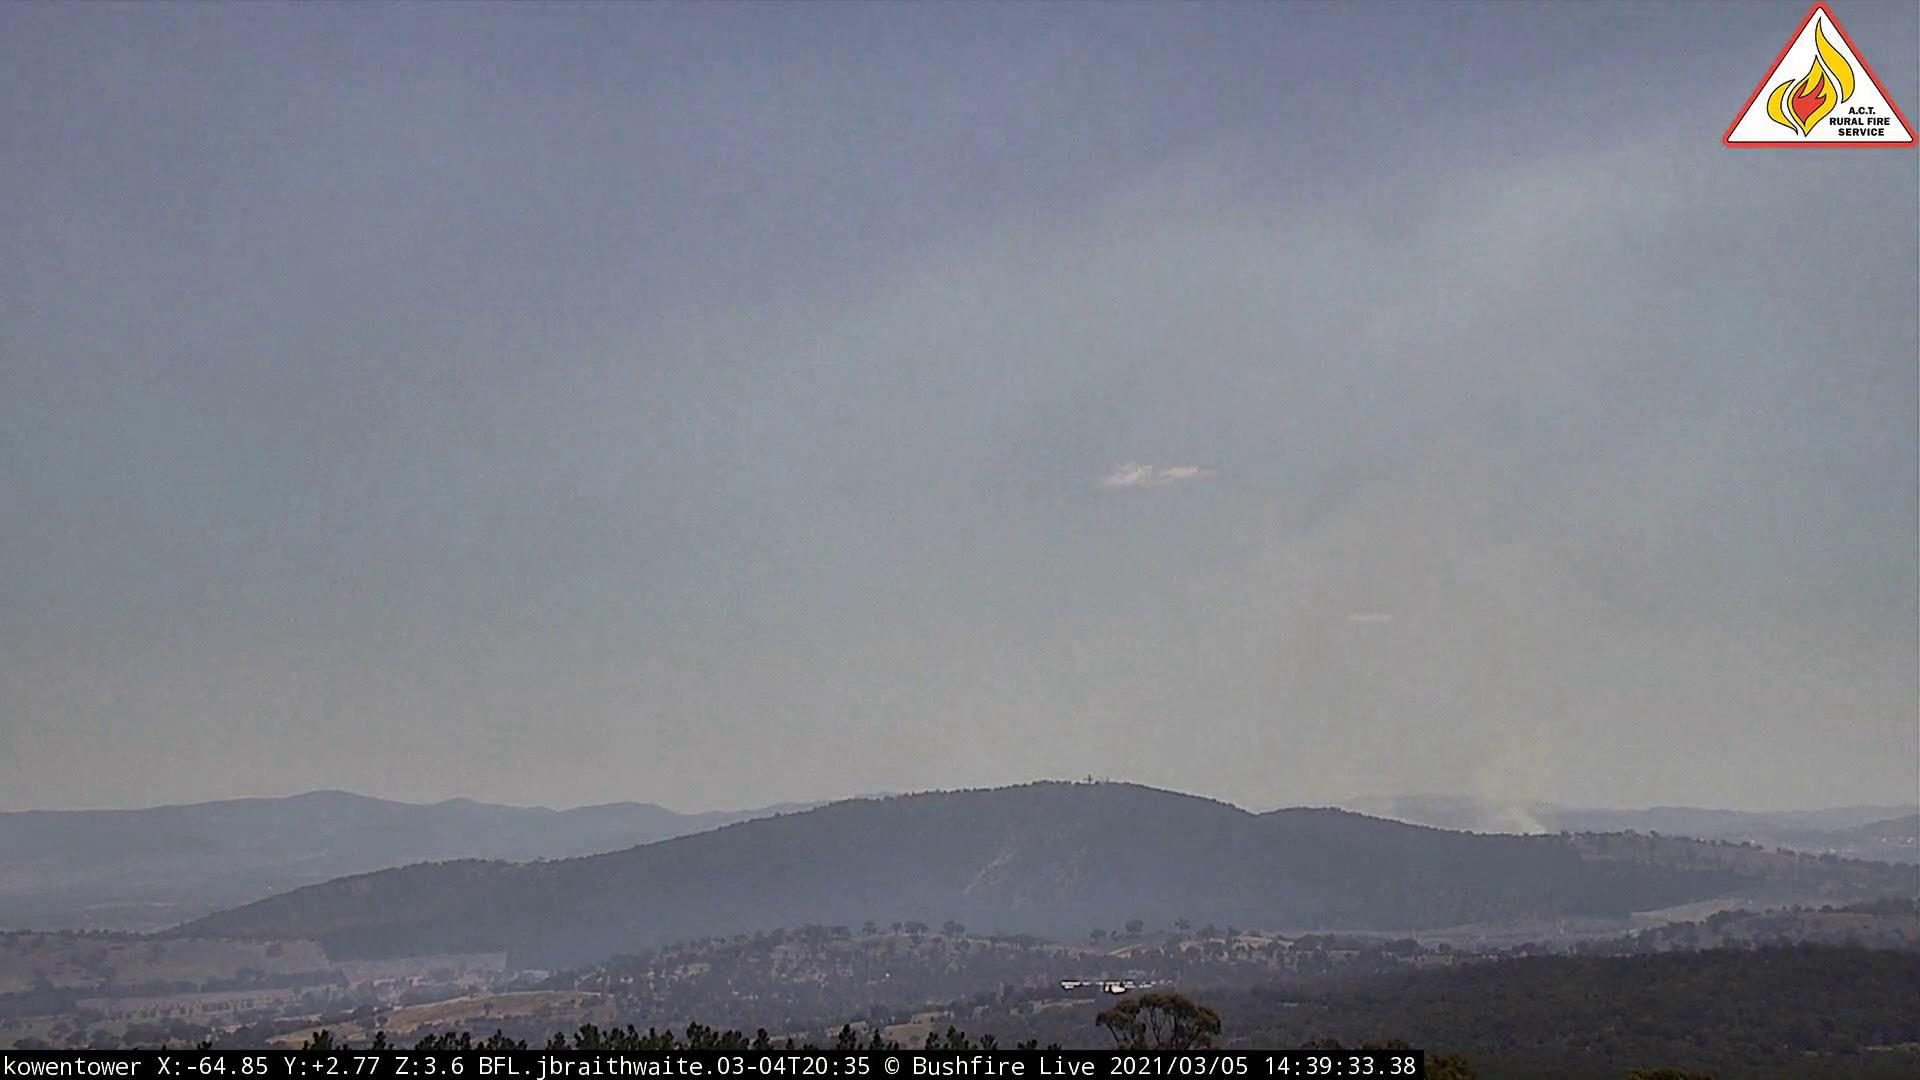Smoke: (1298, 493, 1619, 837)
